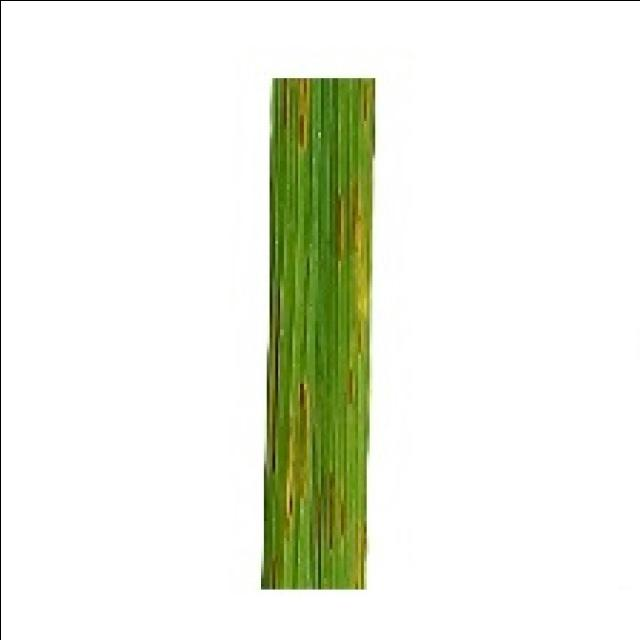Unhealthy: (283, 379, 309, 533), (351, 180, 367, 323), (271, 285, 281, 472), (331, 189, 345, 263), (296, 77, 309, 152), (353, 520, 366, 589), (328, 479, 333, 549), (270, 553, 278, 589), (339, 503, 345, 535), (283, 77, 287, 124), (362, 84, 366, 119), (348, 371, 352, 403), (357, 320, 360, 352)
